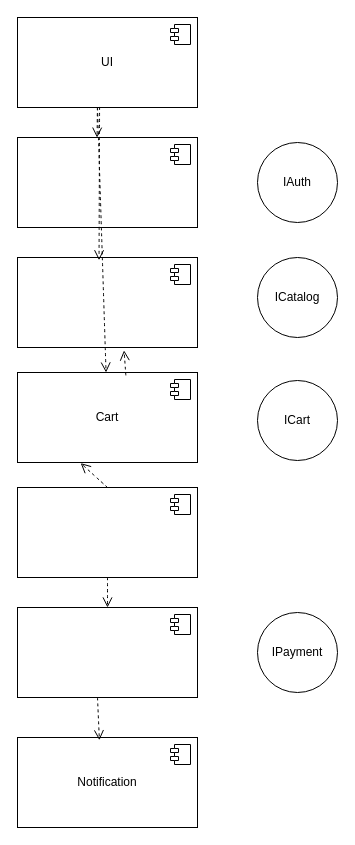
Image size: 355x845. Some labels were removed from this diagram. The box of each missing label's shape, as (x1, y1, x2, y2) in pixels:
Auth: (16, 136, 198, 228)
Catalog: (16, 256, 198, 348)
Orders: (16, 486, 198, 578)
Payment: (16, 606, 198, 698)
